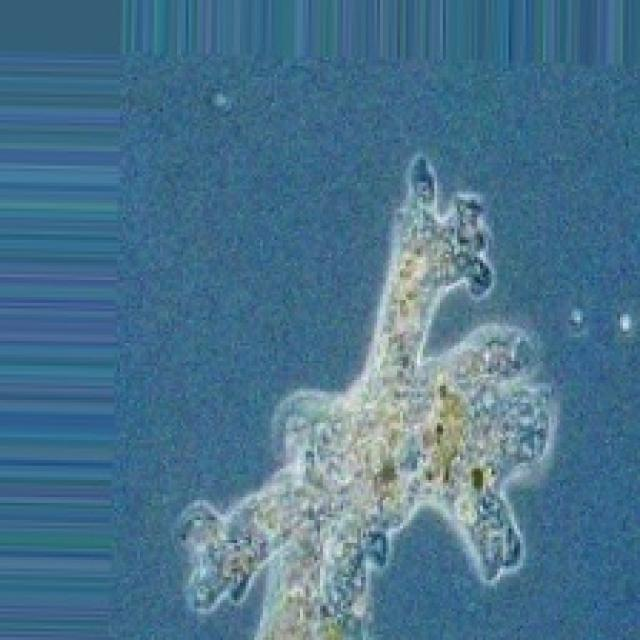Amoeba: (171, 149, 560, 637)
